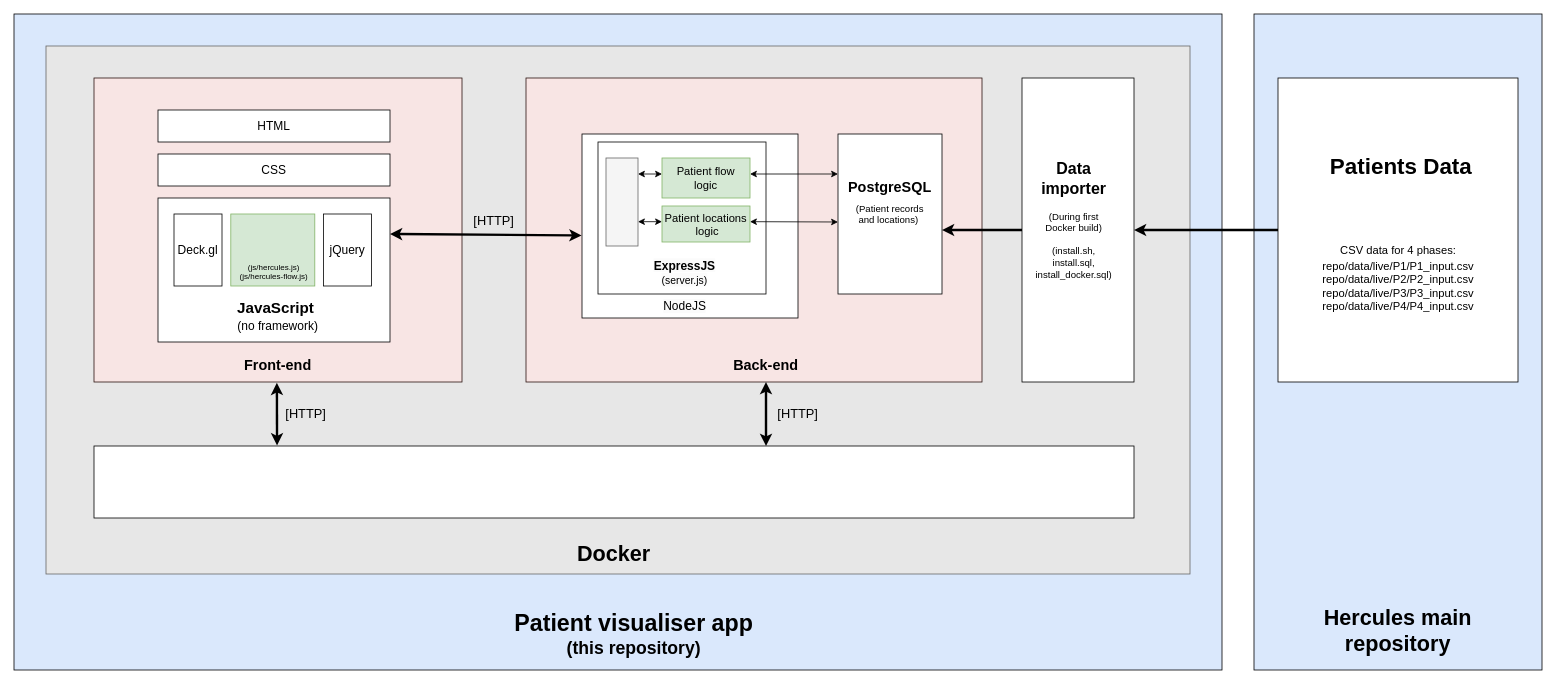
This 1556x684 diagram has some shape labels left out. Here are the shapes that lost their labels. From the top down, the box of each, then its label:
(605, 157, 638, 246): API
(230, 213, 315, 286): Patient journey animation logic
(93, 445, 1134, 518): NGINX (Application-level routing)
